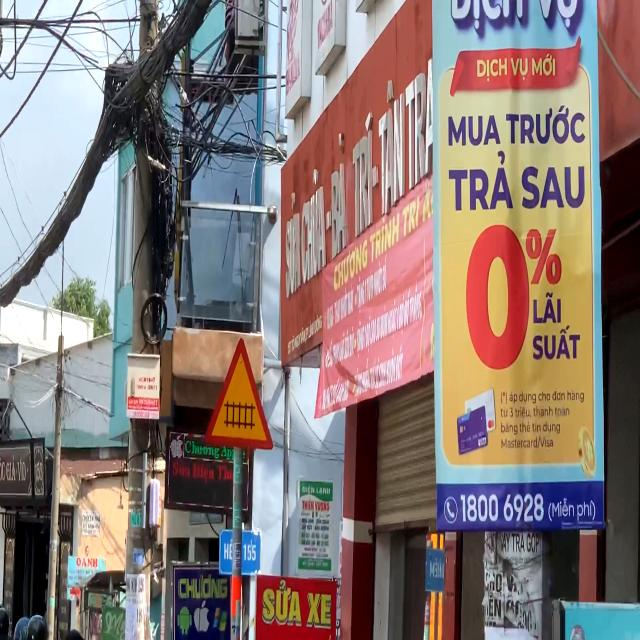W.210: (198, 325, 278, 462)
